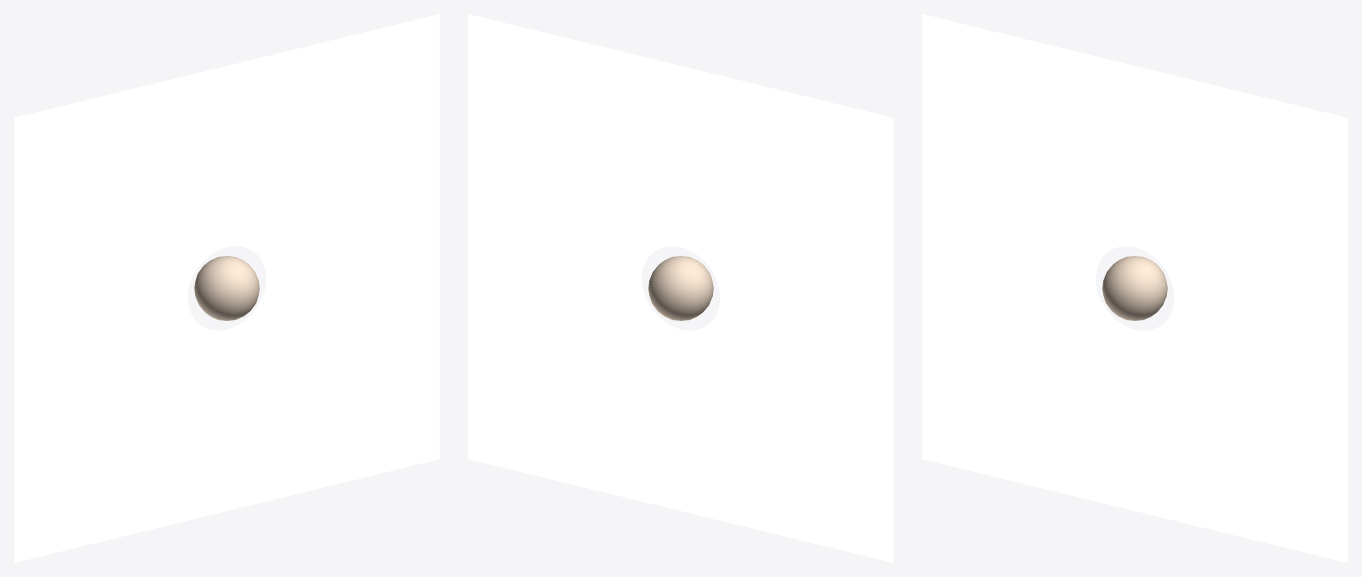
Rendered from sun.fbx.
3 renders of one model, left to right at view 1: azimuth 30°, elevation 25°; view 2: azimuth 150°, elevation 25°; view 3: azimuth 330°, elevation 25°, orthographic.
Visible parts, largest first — view 1: sun_glow, sun; view 2: sun_glow, sun; view 3: sun_glow, sun.
Boxes of the visible parts, x1=… form: sun_glow: x1=14, y1=14, x2=439, y2=562; sun: x1=194, y1=256, x2=259, y2=320; sun_glow: x1=468, y1=14, x2=893, y2=562; sun: x1=648, y1=256, x2=713, y2=320; sun_glow: x1=922, y1=14, x2=1347, y2=562; sun: x1=1102, y1=256, x2=1167, y2=320.
Size of the model in its own units: 6000 by 6000 by 800.
